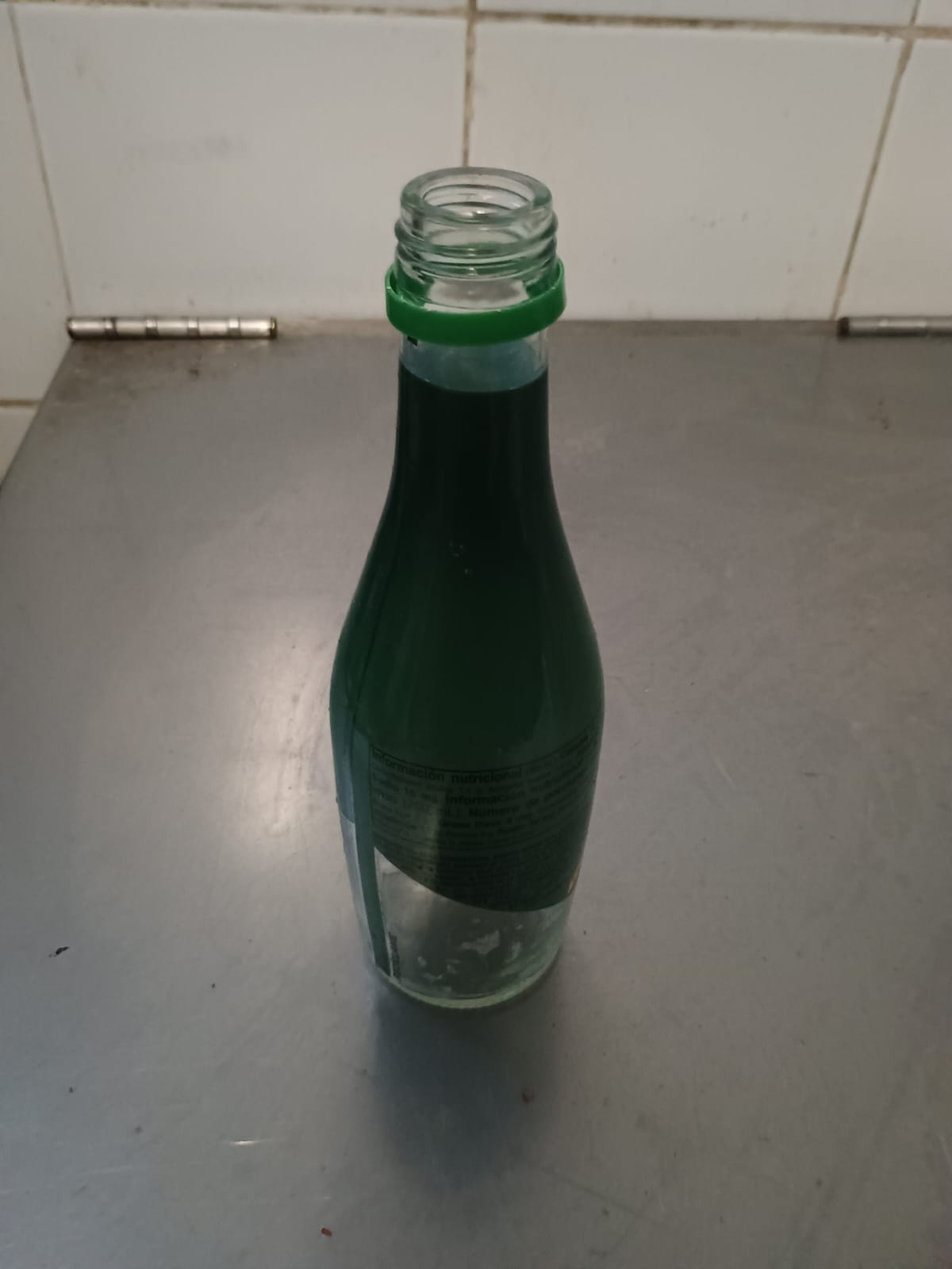Vidrio: (329, 166, 611, 1016)
